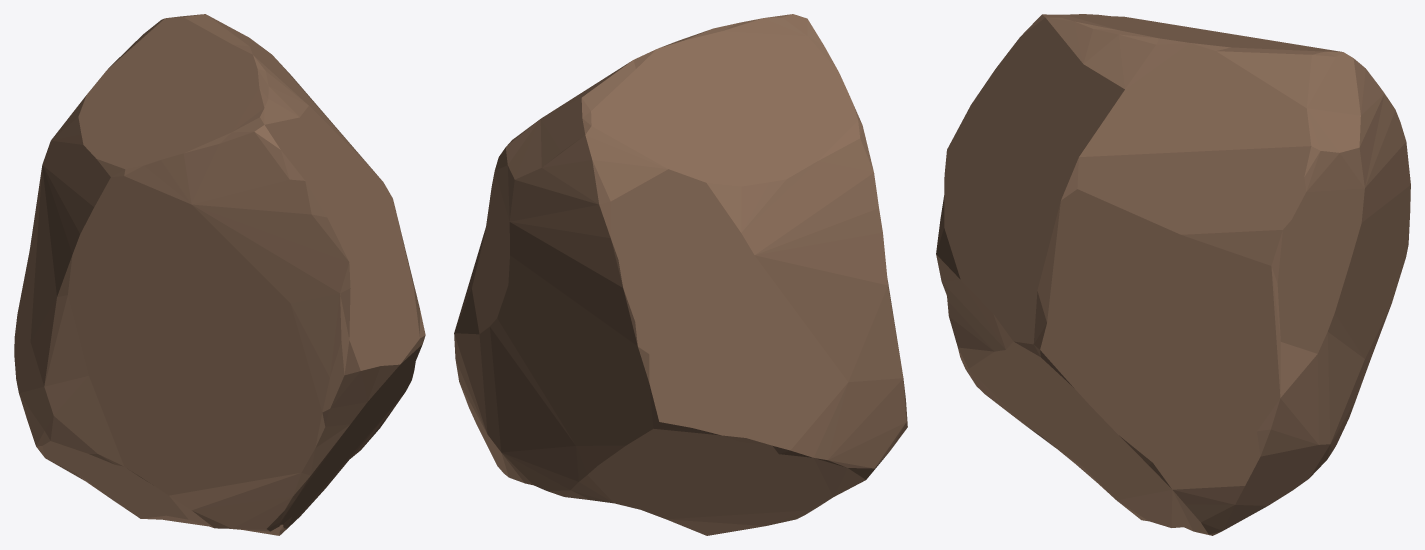
The model's file is stone.fbx.
The picture shows the model from 3 angles, left to right: view 1: azimuth 30°, elevation 25°; view 2: azimuth 150°, elevation 25°; view 3: azimuth 270°, elevation 25°; orthographic projection. The views are drawn at different scales.
Visible parts, largest first — view 1: Cube; view 2: Cube; view 3: Cube.
Part boxes in pixels (x1=…): Cube: x1=14, y1=14, x2=425, y2=535; Cube: x1=454, y1=14, x2=907, y2=535; Cube: x1=936, y1=14, x2=1410, y2=535.
Bounding box in the file's own units: 298 × 351 × 318.
